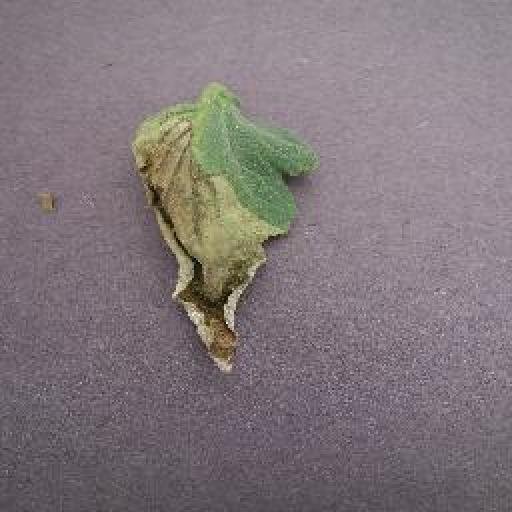disease_tomato: (129, 96, 319, 376)
